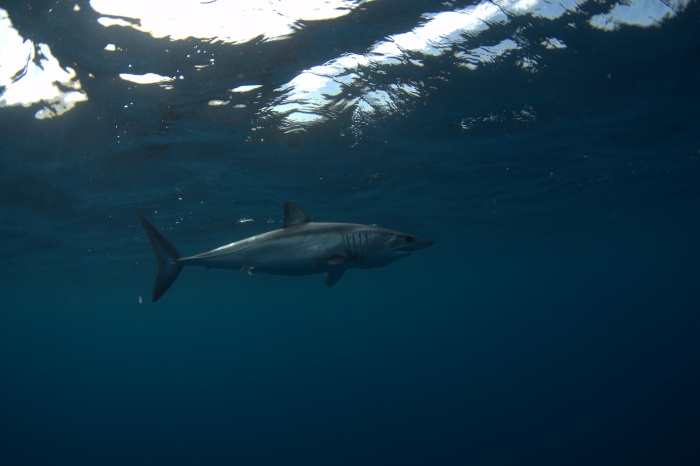Mako: (138, 193, 446, 316)
